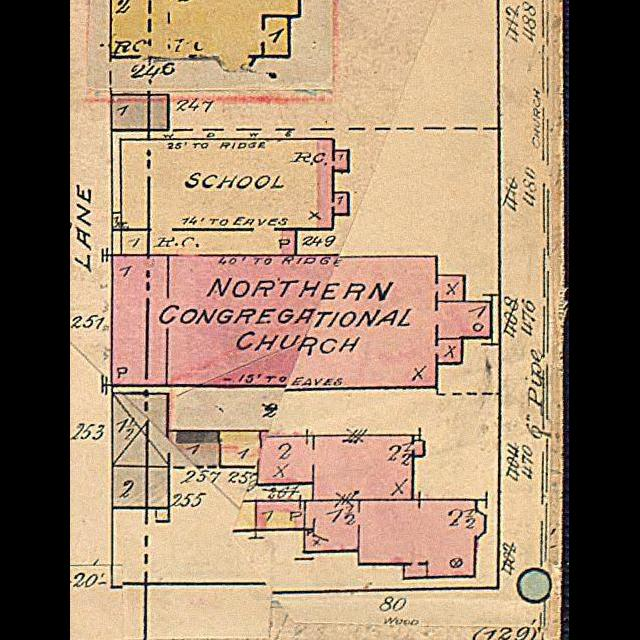building-footprints: (112, 255, 492, 387), (113, 393, 425, 500), (121, 139, 349, 255), (305, 500, 486, 578), (111, 0, 301, 70), (113, 466, 169, 508), (111, 94, 170, 130), (257, 501, 305, 529), (122, 230, 149, 255), (156, 508, 169, 522), (113, 213, 122, 230)
